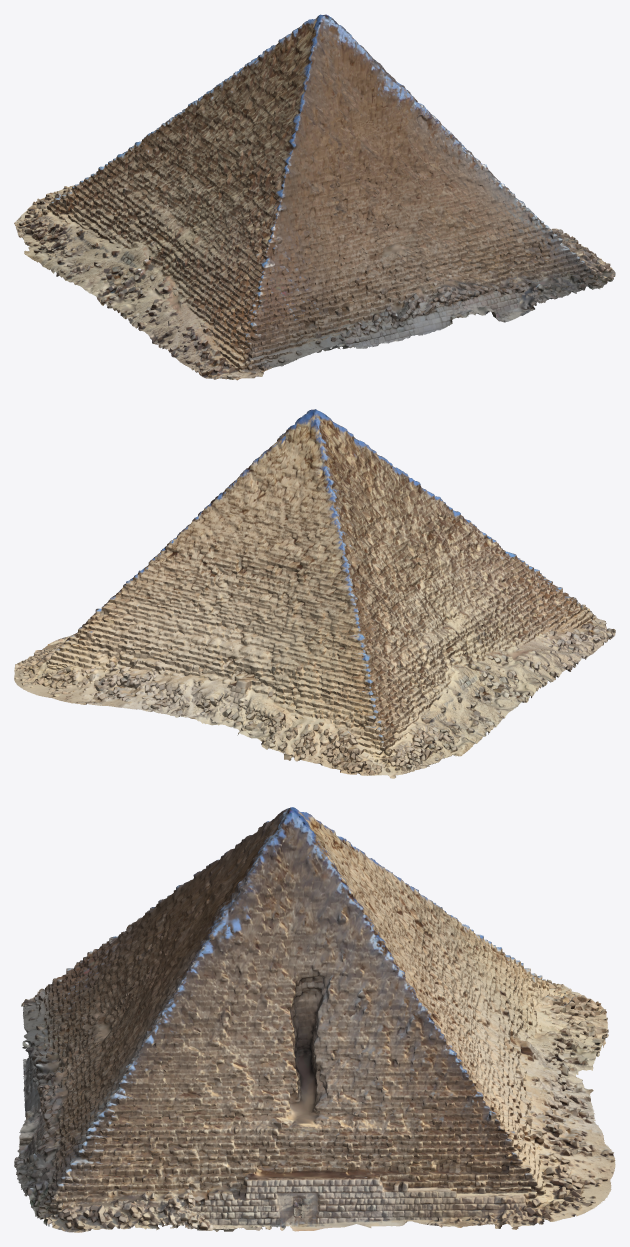
The picture shows the model from 3 angles, top to bottom: view 1: azimuth 30°, elevation 25°; view 2: azimuth 150°, elevation 25°; view 3: azimuth 270°, elevation 25°; orthographic projection. The views are drawn at different scales.
Visible parts, largest first — view 1: Object_2; view 2: Object_2; view 3: Object_2.
Part boxes in pixels (left/top/right/bottom): Object_2: left=14, top=14, right=615, bottom=380; Object_2: left=14, top=409, right=615, bottom=778; Object_2: left=14, top=807, right=615, bottom=1232.
Size of the model in its own units: 90.35 by 49.67 by 88.28.
1 material, 1 textured.
